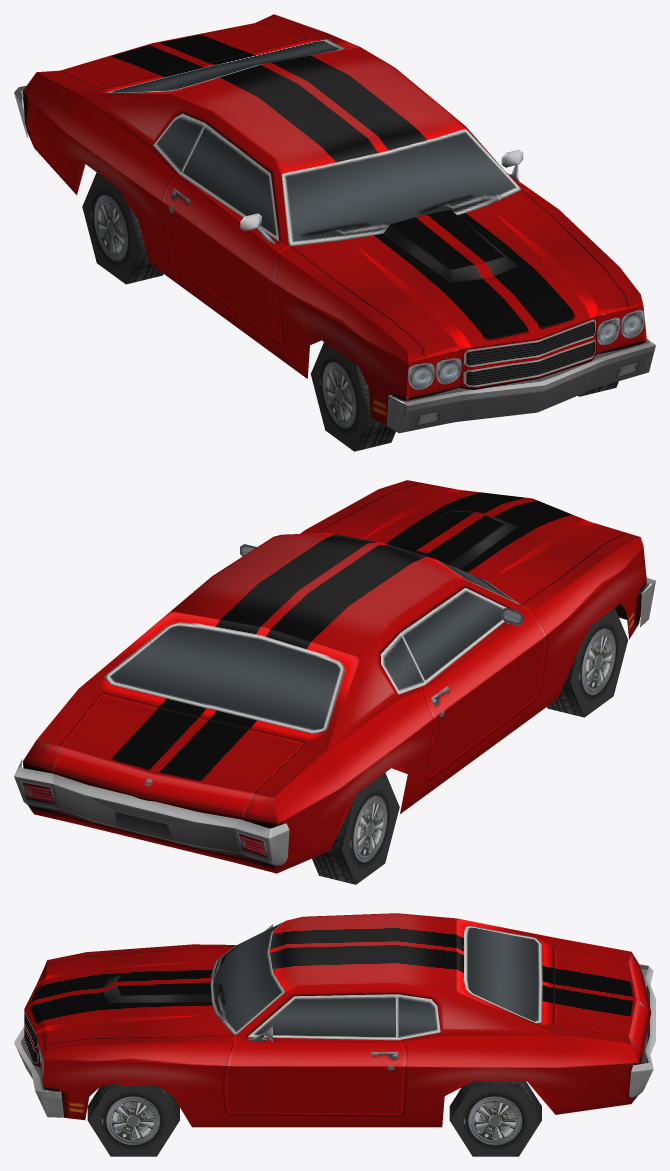
Rendered from ClassicHotRod_LOD2.fbx.
3 renders of one model, top to bottom at view 1: azimuth 30°, elevation 25°; view 2: azimuth 150°, elevation 25°; view 3: azimuth 270°, elevation 25°, orthographic. The views are drawn at different scales.
Parts seen in each view (by area): view 1: Chassis, RF_Wheel, RR_Wheel; view 2: Chassis, RR_Wheel, RF_Wheel; view 3: Chassis, LR_Wheel, LF_Wheel.
Part boxes in pixels (<box>): Chassis: <box>14,14,655,433</box>; RF_Wheel: <box>310,342,395,451</box>; RR_Wheel: <box>82,172,163,284</box>; Chassis: <box>14,480,655,873</box>; RR_Wheel: <box>312,772,399,884</box>; RF_Wheel: <box>547,607,627,717</box>; Chassis: <box>14,913,655,1127</box>; LR_Wheel: <box>449,1081,541,1156</box>; LF_Wheel: <box>87,1084,179,1156</box>.
Bounding box in the file's own units: 2.07 × 1.44 × 5.14.
2 materials, 2 textured.
